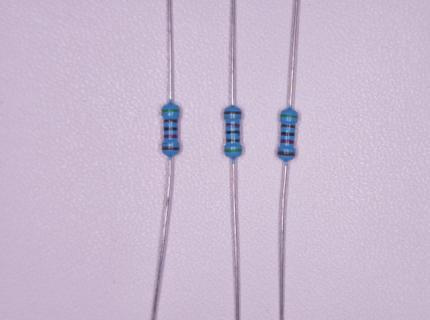Black band: (164, 127, 178, 131), (281, 132, 295, 136), (226, 131, 240, 134)
Brown band: (278, 151, 295, 156), (224, 111, 242, 115), (281, 124, 296, 128), (226, 139, 240, 143), (164, 119, 178, 123), (162, 147, 180, 150)
Green band: (280, 114, 298, 119), (162, 109, 180, 112), (224, 149, 242, 152)
Red band: (280, 139, 294, 144), (164, 134, 178, 138), (226, 123, 240, 127)
